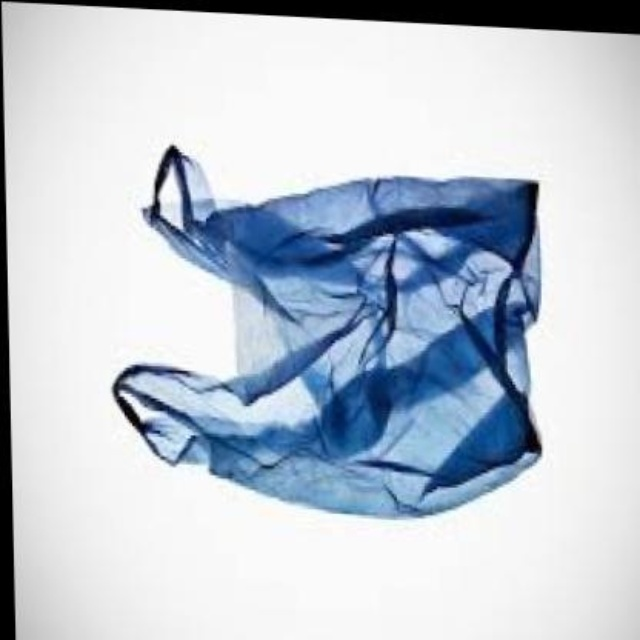trash: (114, 146, 538, 515)
